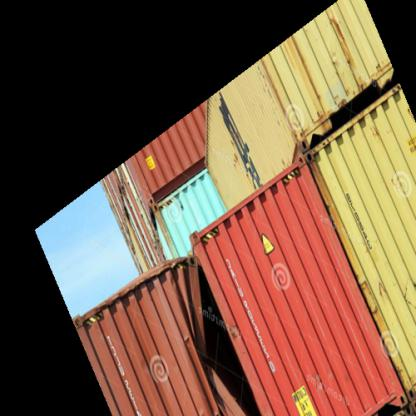Damage: (174, 257, 264, 410)
